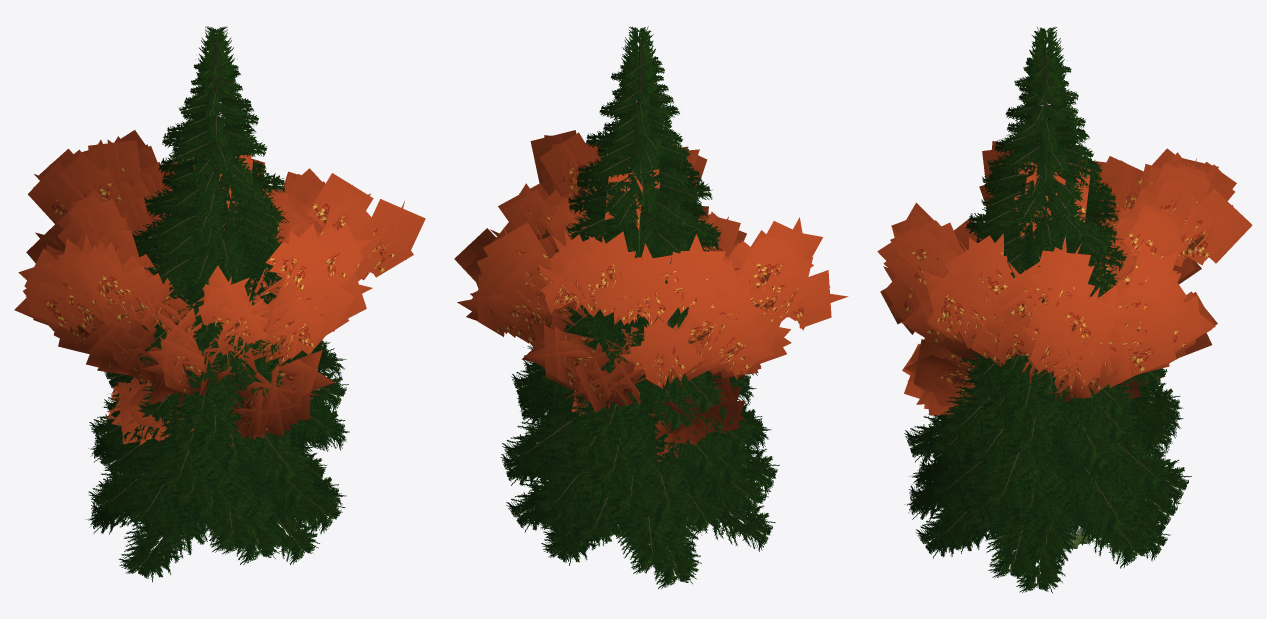
Rendered from nat_forest.glb.
The picture shows the model from 3 angles, left to right: view 1: azimuth 30°, elevation 25°; view 2: azimuth 150°, elevation 25°; view 3: azimuth 270°, elevation 25°; orthographic projection. The views are drawn at different scales.
Visible parts, largest first — view 1: fir, maple; view 2: fir, maple; view 3: fir, maple.
Part boxes in pixels (x1=…): fir: x1=85, y1=26, x2=349, y2=582; maple: x1=14, y1=130, x2=425, y2=445; fir: x1=500, y1=26, x2=779, y2=588; maple: x1=454, y1=130, x2=848, y2=461; fir: x1=904, y1=26, x2=1191, y2=593; maple: x1=877, y1=141, x2=1252, y2=418.
Size of the model in its own units: 13.52 by 18.71 by 11.84.
Materials: 7 (7 with a texture image).
